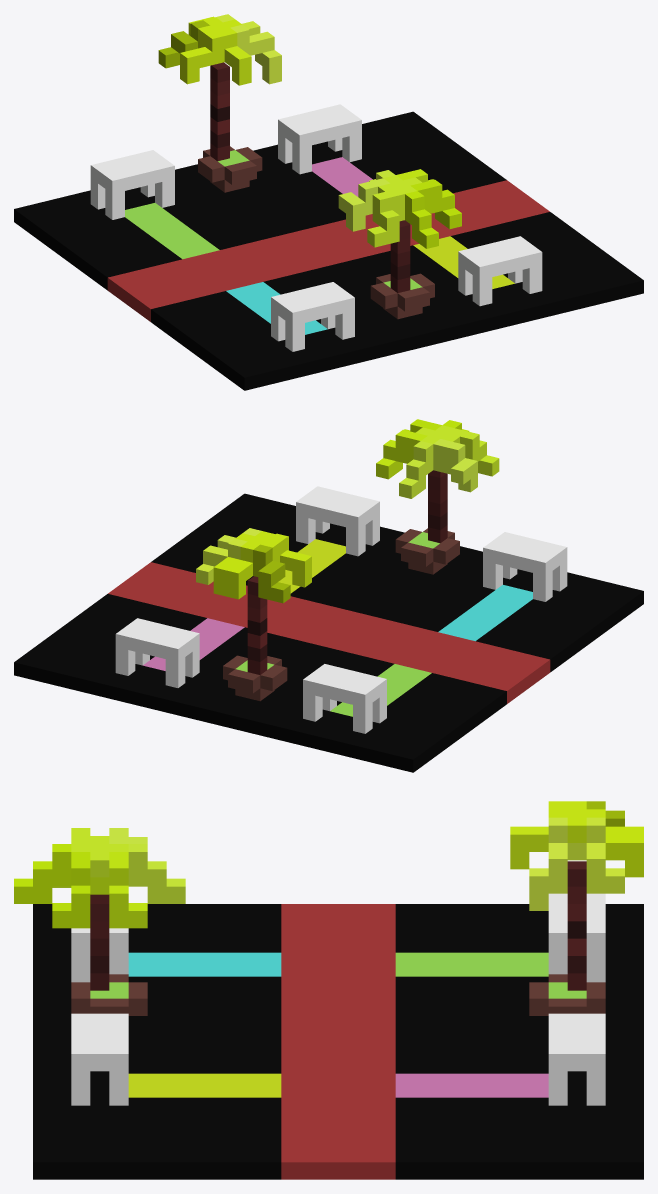
File: convention.obj
The picture shows the model from 3 angles, top to bottom: view 1: azimuth 30°, elevation 25°; view 2: azimuth 150°, elevation 25°; view 3: azimuth 270°, elevation 25°; orthographic projection. The views are drawn at different scales.
Size of the model in its own units: 3.2 by 1.3 by 3.3.
Materials: 1 (1 with a texture image).
